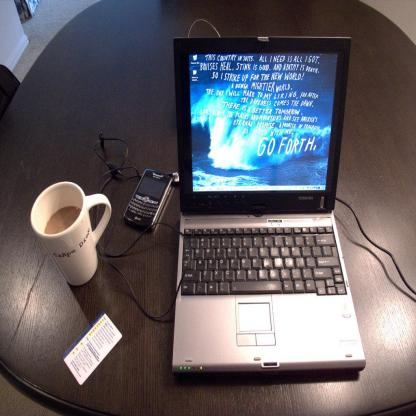board: (166, 13, 356, 398)
